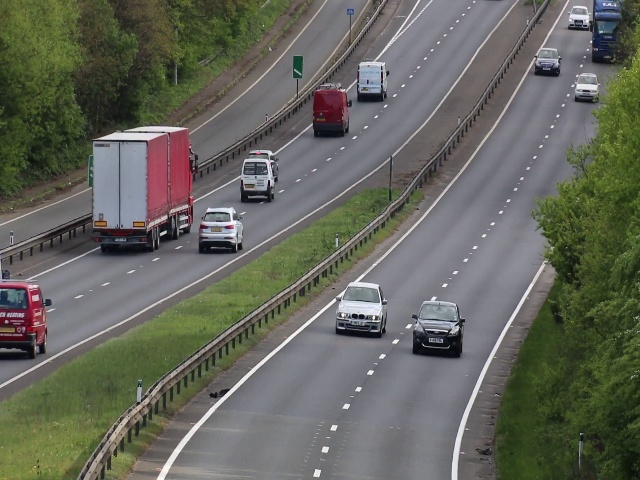car: (95, 117, 194, 248), (1, 277, 47, 357), (412, 293, 464, 359), (336, 282, 387, 338), (198, 203, 245, 255), (310, 84, 350, 141), (239, 157, 274, 205), (357, 60, 390, 99), (574, 67, 598, 104), (537, 47, 559, 77), (566, 8, 591, 31)
